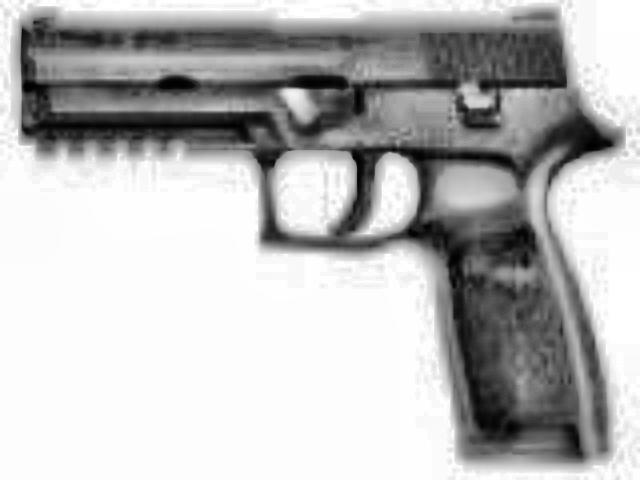pistol: (20, 8, 616, 464)
